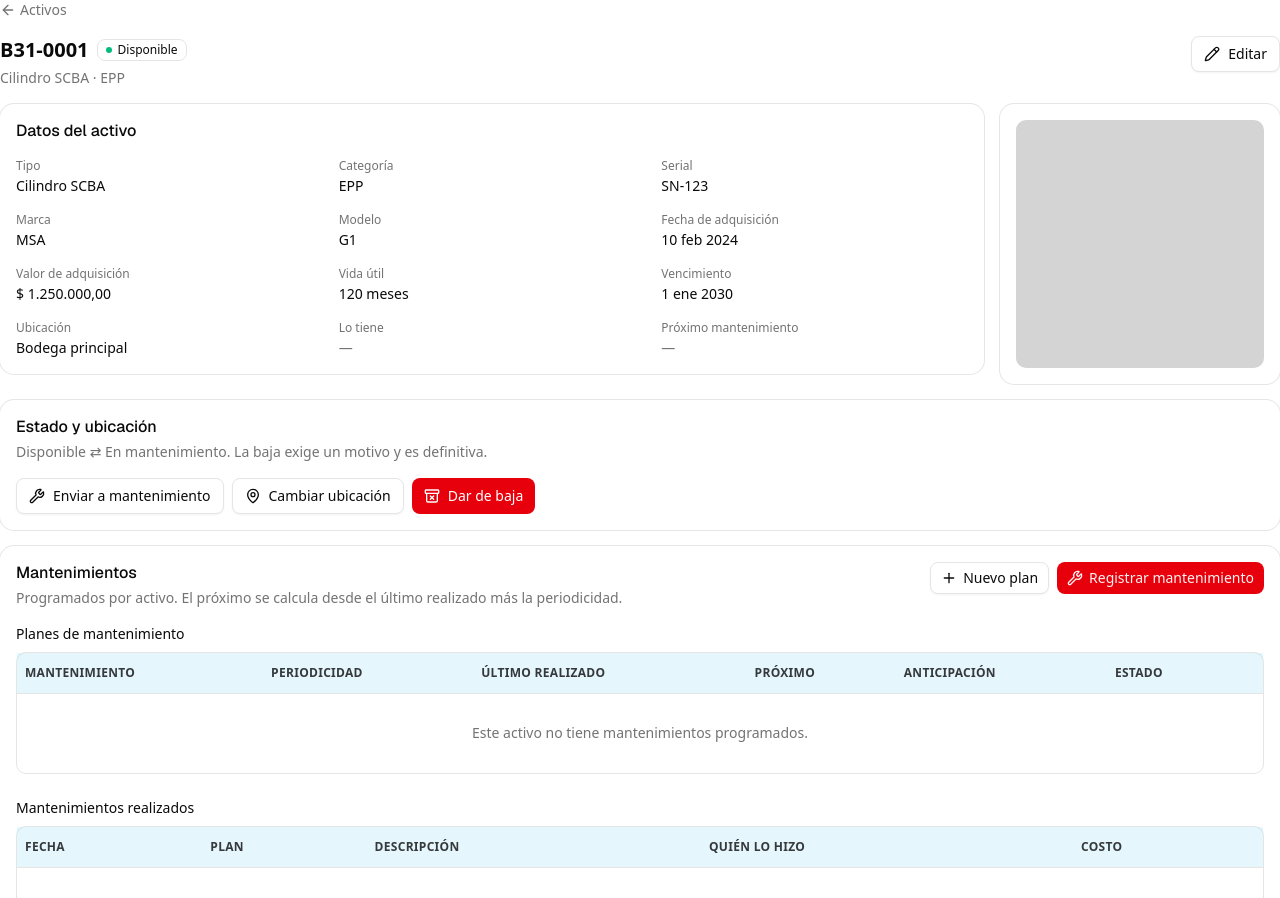
Test: AssetDetailScreen (/activos/[id], 005 US2, US3, D-001) › avisa si no hay otras ubicaciones activas a las que trasladarlo
The image size is (1280, 898).
Click the button "Cambiar ubicación" at coordinates (318, 496), box [232,478,404,514]
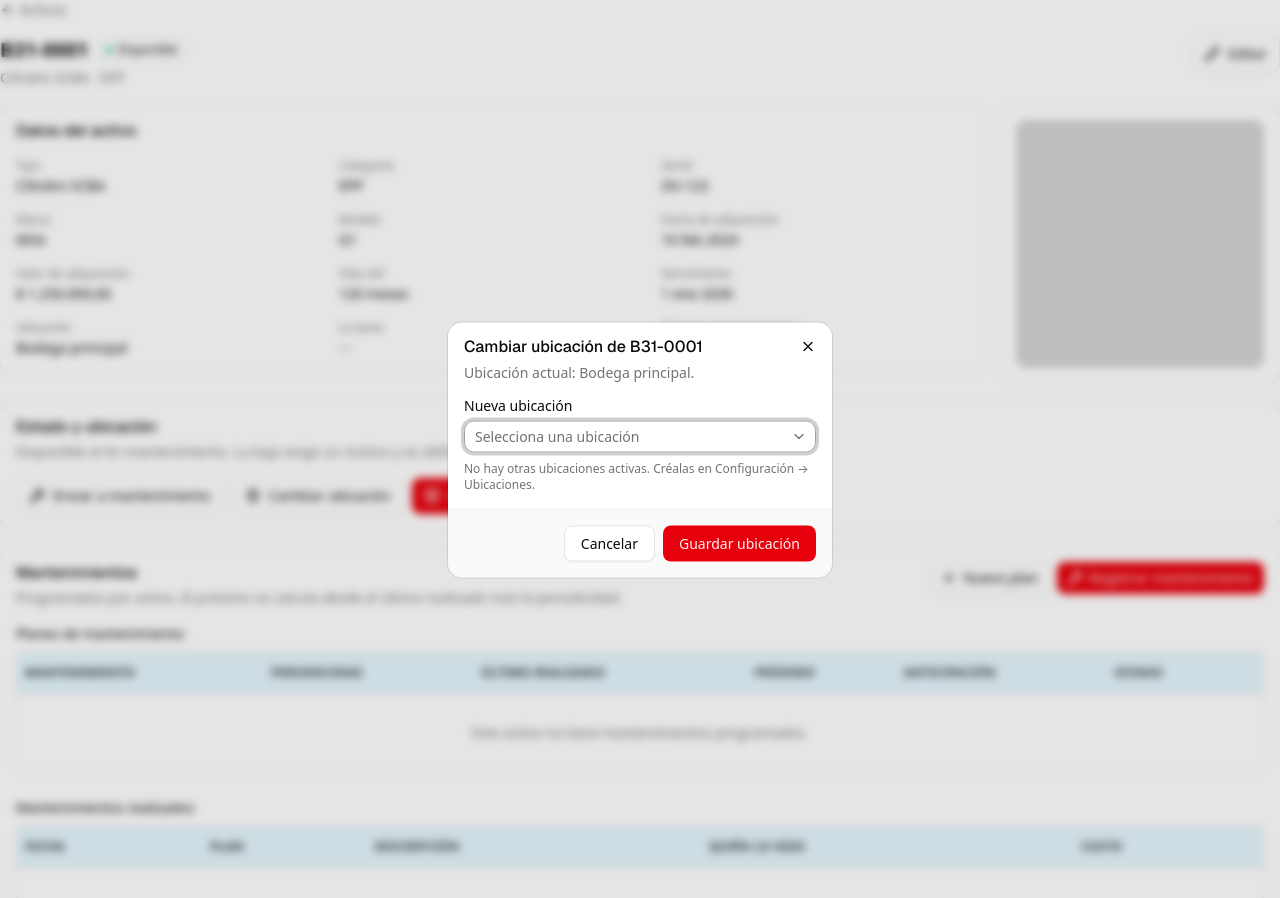
Expected: the text "No hay otras ubicaciones activas" is shown, [464,460,809,492]
